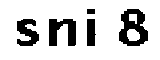8: (113, 6, 150, 49)
i: (82, 4, 102, 50)
n: (46, 17, 80, 51)
s: (9, 18, 38, 49)
